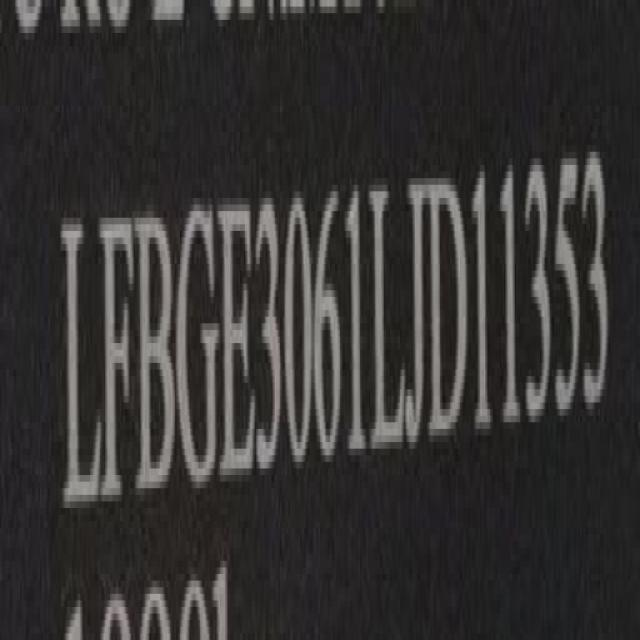0: (286, 190, 316, 481)
1: (347, 180, 370, 472), (470, 164, 493, 446), (499, 158, 520, 438)
3: (254, 191, 285, 486), (525, 160, 553, 436), (584, 147, 611, 420)
5: (553, 151, 579, 433)
6: (312, 183, 344, 478)
B: (136, 208, 176, 506)
D: (429, 173, 468, 457)
E: (219, 192, 256, 493)
F: (101, 205, 137, 513)
G: (178, 198, 222, 499)
J: (405, 176, 428, 459)
L: (61, 201, 101, 522), (369, 177, 406, 472)
